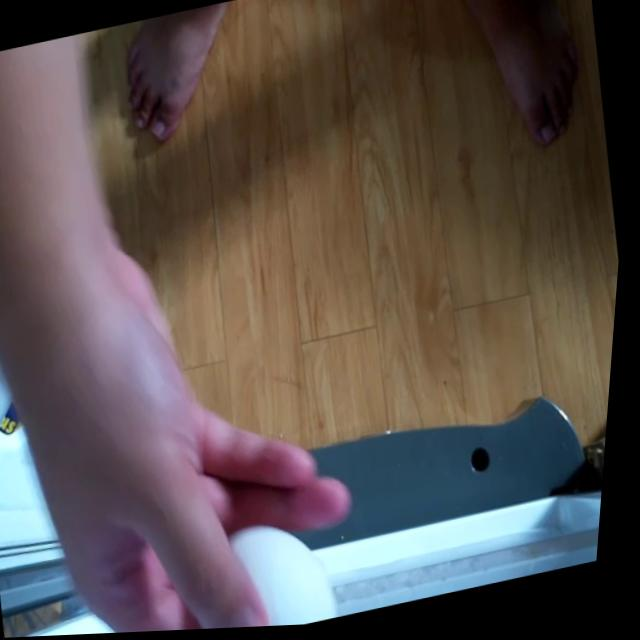egg: (201, 510, 356, 632)
